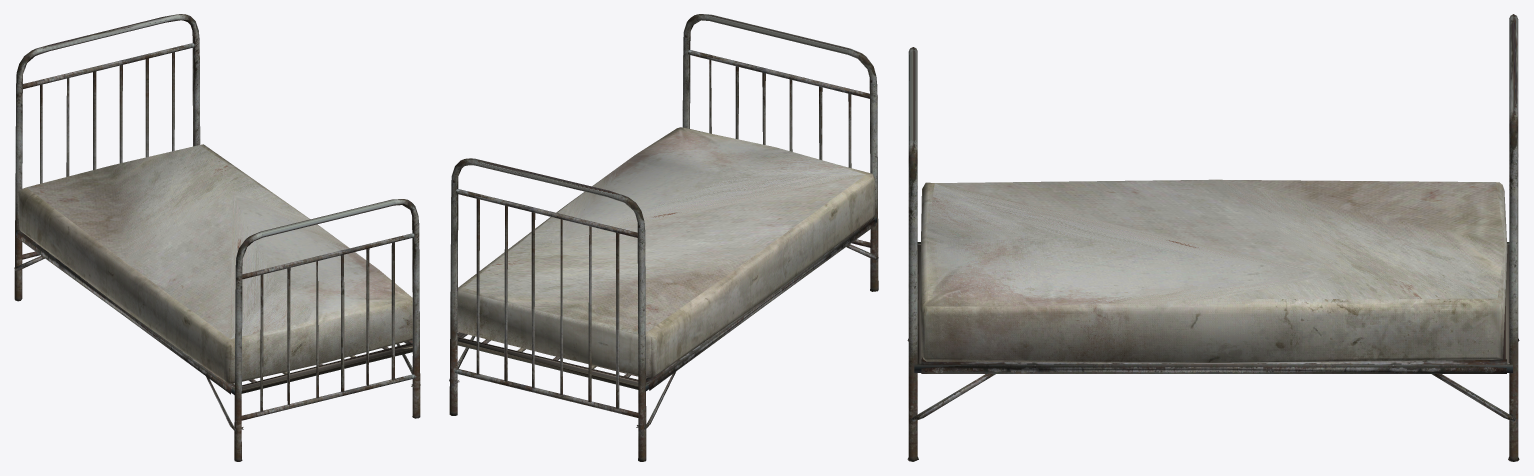
File: cama.FBX
3 renders of one model, left to right at view 1: azimuth 30°, elevation 25°; view 2: azimuth 150°, elevation 25°; view 3: azimuth 270°, elevation 25°, orthographic. The views are drawn at different scales.
Parts seen in each view (by area): view 1: Hospital_Bed_with_Mattress; view 2: Hospital_Bed_with_Mattress; view 3: Hospital_Bed_with_Mattress.
Boxes of the visible parts, x1,y1,x2,y2 form: Hospital_Bed_with_Mattress: [14, 14, 420, 461]; Hospital_Bed_with_Mattress: [449, 14, 878, 461]; Hospital_Bed_with_Mattress: [907, 14, 1519, 461].
Bounding box in the file's own units: 36.41 × 44.61 × 73.2.
